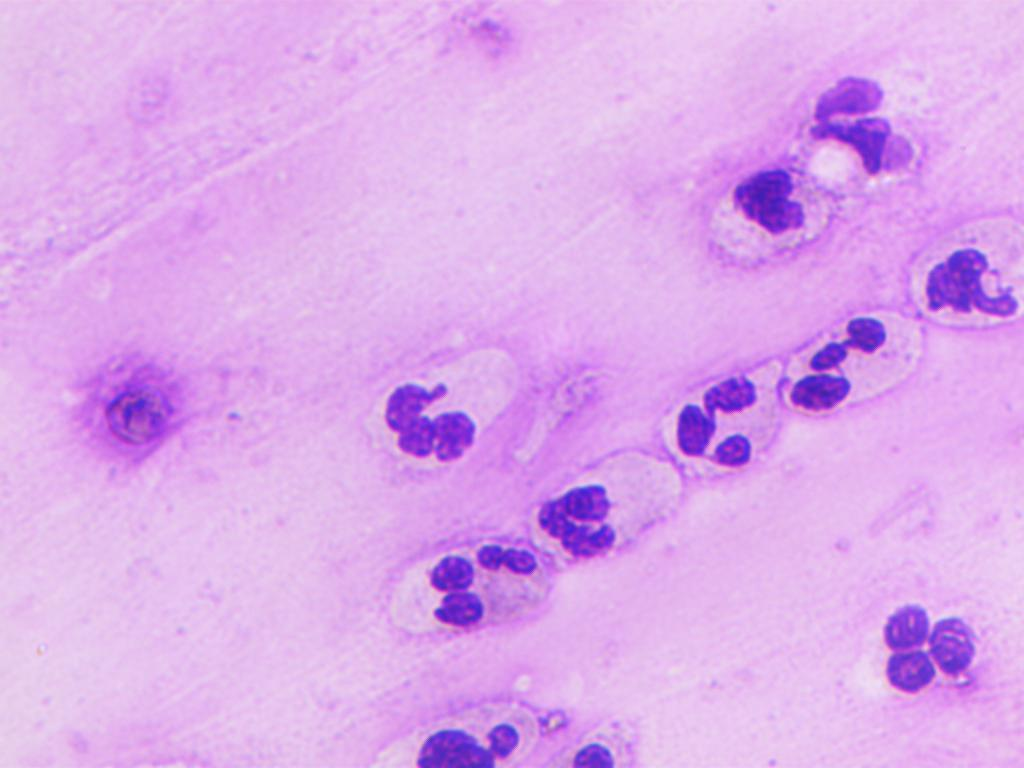artifact: (57, 354, 186, 459)
neutrophil: (848, 571, 1003, 723), (354, 351, 521, 485), (782, 296, 928, 439), (379, 528, 560, 640), (789, 66, 938, 190), (525, 456, 689, 558), (703, 162, 842, 270), (661, 368, 794, 476), (909, 214, 1023, 335), (385, 692, 545, 767), (557, 724, 655, 767)
